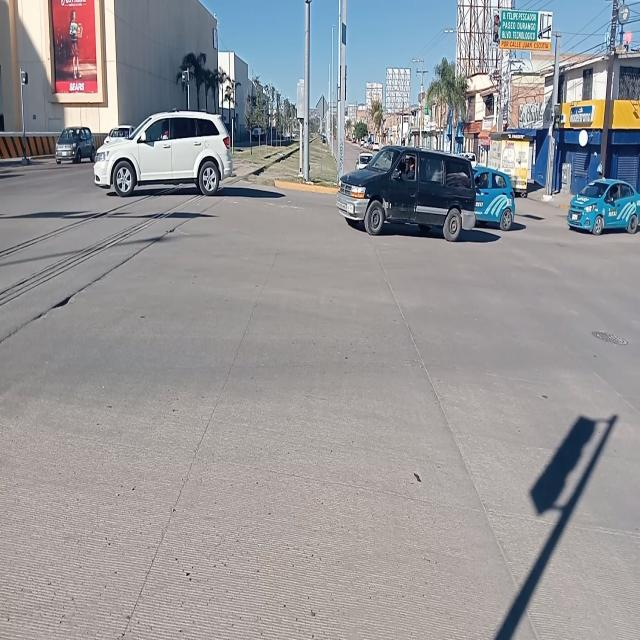Auto: (337, 142, 476, 242), (94, 107, 232, 201), (566, 176, 640, 235)
